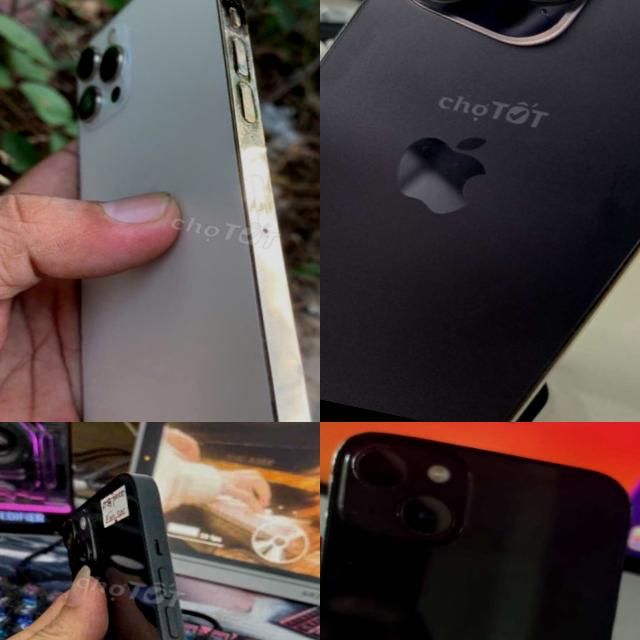gen_12_13: (0, 0, 320, 422), (0, 450, 315, 640)
gen_14: (320, 0, 640, 422), (320, 422, 640, 640)
